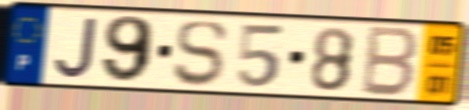5: (234, 23, 287, 90)
8: (310, 25, 356, 94)
9: (101, 13, 160, 87)
B: (358, 23, 422, 100)
J: (53, 15, 100, 81)
S: (171, 19, 230, 89)
